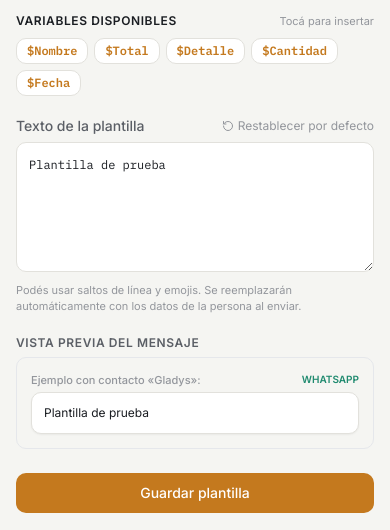
it: WhatsAppTemplateForm › guarda plantilla exitosamente cuando el usuario está online
Click the button "Guardar plantilla".
click(195, 493)  # box [16,473,374,513]
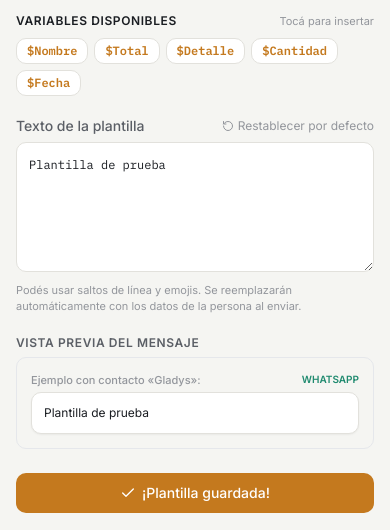
Result: the button "¡Plantilla guardada!" is shown at [16,473,374,513]
